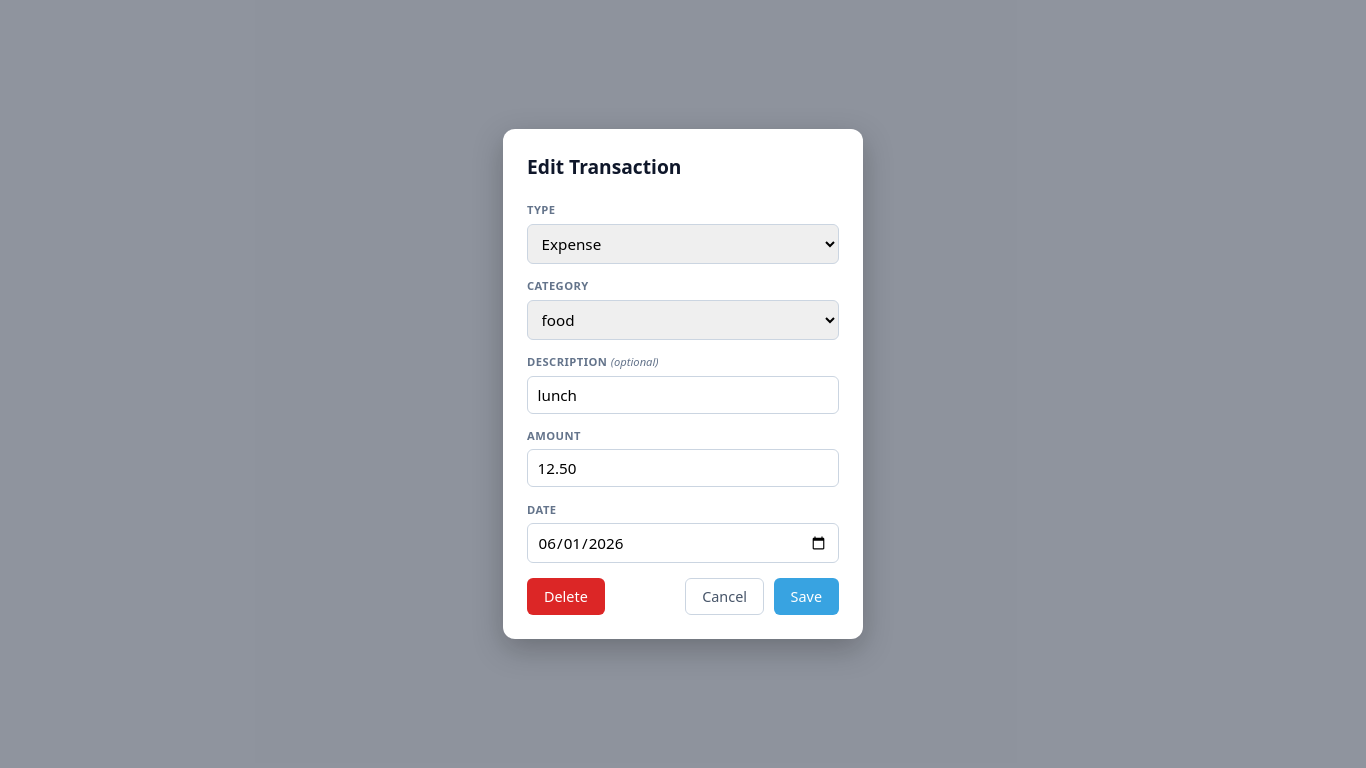
Test: EditTransactionDialog › surfaces an API error without closing
Expected: the dropdown showing "food" is shown, x1=527 y1=300 x2=839 y2=340
Click the button "Save": (806, 596) x1=774 y1=578 x2=839 y2=615
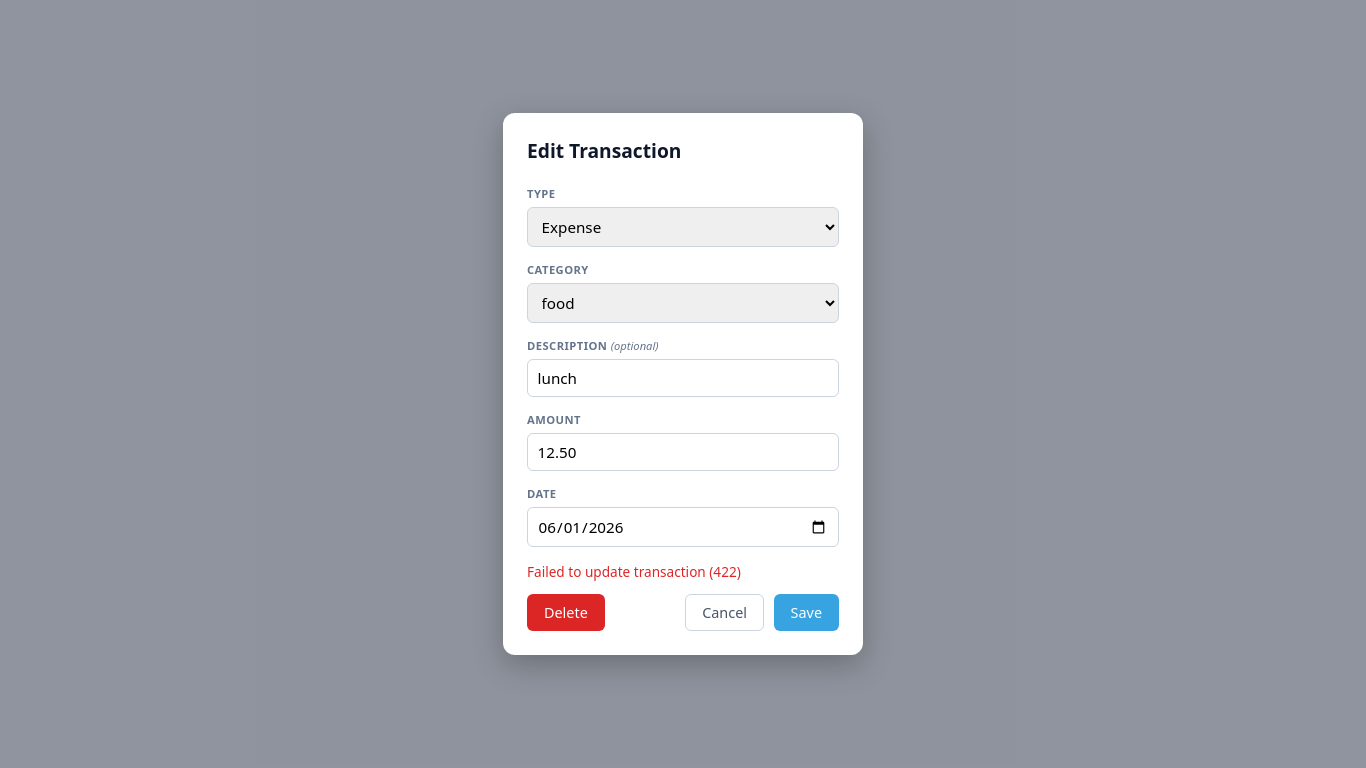
Expected: the text "Failed to update transaction (422)" is shown, x1=527 y1=562 x2=741 y2=581
